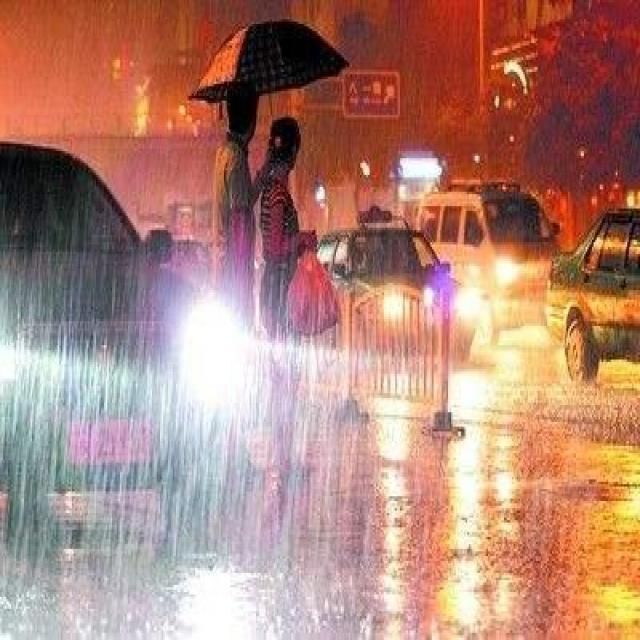car: (0, 136, 229, 540), (296, 208, 474, 362), (411, 175, 557, 345), (540, 201, 638, 381)
